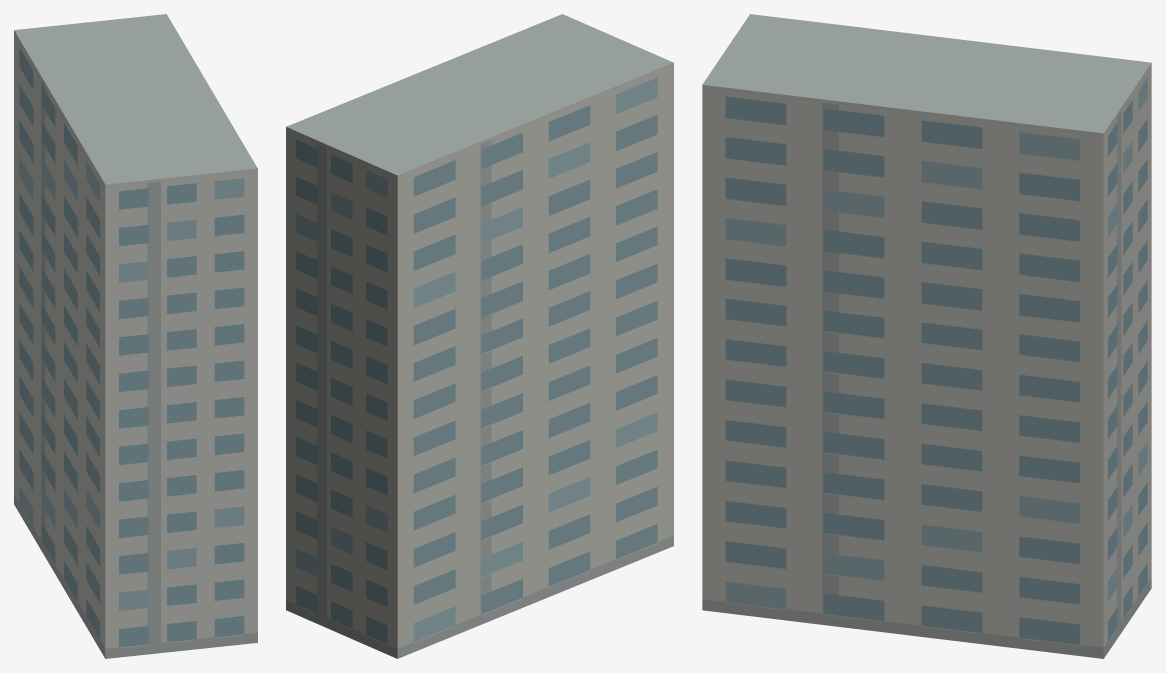
Rendered from residential-a5d356b6-dee9-49ad-8f4d-e73e36350ef7.glb.
3 renders of one model, left to right at view 1: azimuth 30°, elevation 25°; view 2: azimuth 150°, elevation 25°; view 3: azimuth 270°, elevation 25°, orthographic. The views are drawn at different scales.
Parts seen in each view (by area): view 1: residential-a5d356b6-dee9-49ad-8f4d-e73e36350ef7.tmp; view 2: residential-a5d356b6-dee9-49ad-8f4d-e73e36350ef7.tmp; view 3: residential-a5d356b6-dee9-49ad-8f4d-e73e36350ef7.tmp.
Part boxes in pixels (x1,y1,x2,y2): residential-a5d356b6-dee9-49ad-8f4d-e73e36350ef7.tmp: (14, 14, 257, 658); residential-a5d356b6-dee9-49ad-8f4d-e73e36350ef7.tmp: (286, 14, 673, 658); residential-a5d356b6-dee9-49ad-8f4d-e73e36350ef7.tmp: (702, 14, 1151, 658).
Size of the model in its own units: 19.33 by 39.65 by 30.75.
